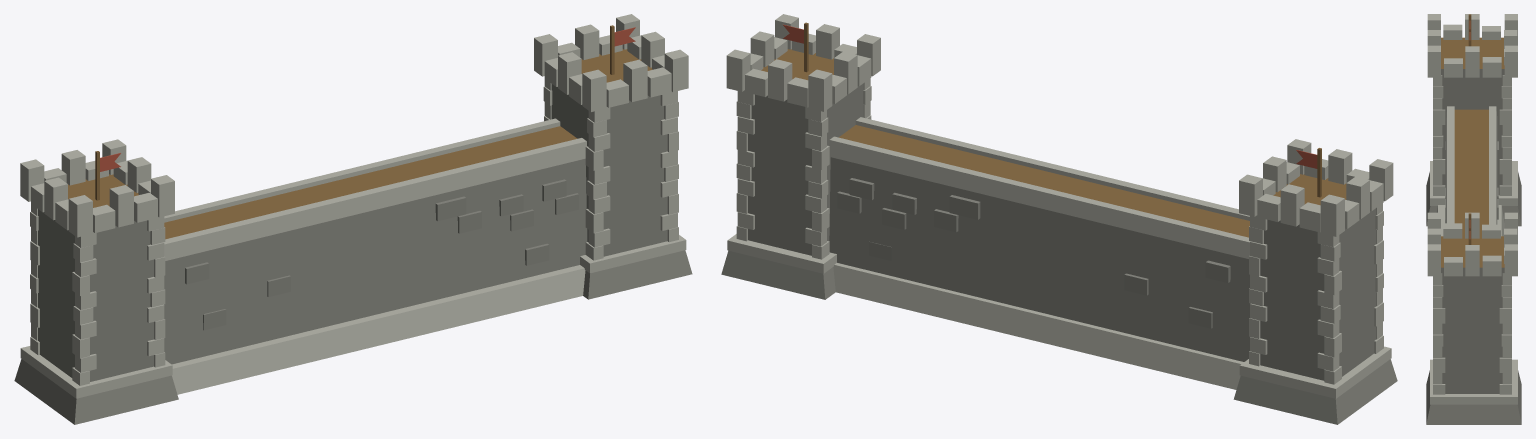
Rendered from WallTowers_SecondAge.glb.
3 renders of one model, left to right at view 1: azimuth 30°, elevation 25°; view 2: azimuth 150°, elevation 25°; view 3: azimuth 270°, elevation 25°, orthographic. The views are drawn at different scales.
Parts seen in each view (by area): view 1: WallTowers_SecondAge; view 2: WallTowers_SecondAge; view 3: WallTowers_SecondAge.
Part boxes in pixels (x1=…): WallTowers_SecondAge: x1=14, y1=14, x2=692, y2=424; WallTowers_SecondAge: x1=721, y1=14, x2=1397, y2=424; WallTowers_SecondAge: x1=1426, y1=14, x2=1521, y2=424.
Bounding box in the file's own units: 1.98 × 0.7354 × 0.3333.
